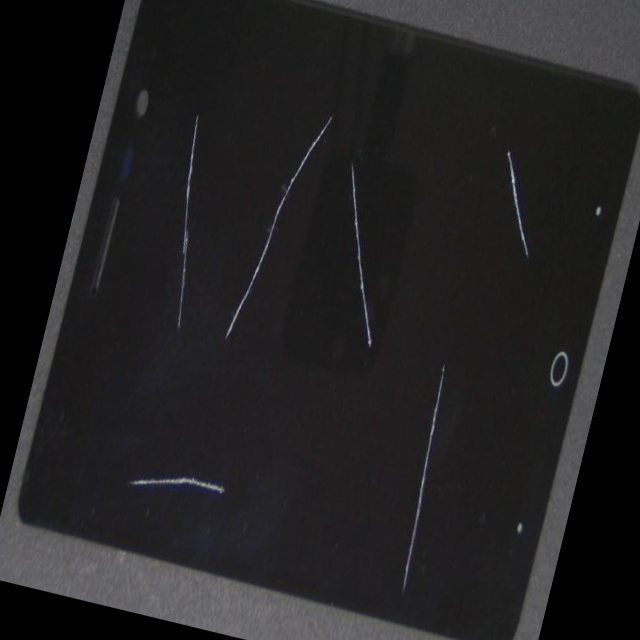scratch: (128, 205, 385, 640), (229, 239, 533, 490), (317, 139, 640, 367)
